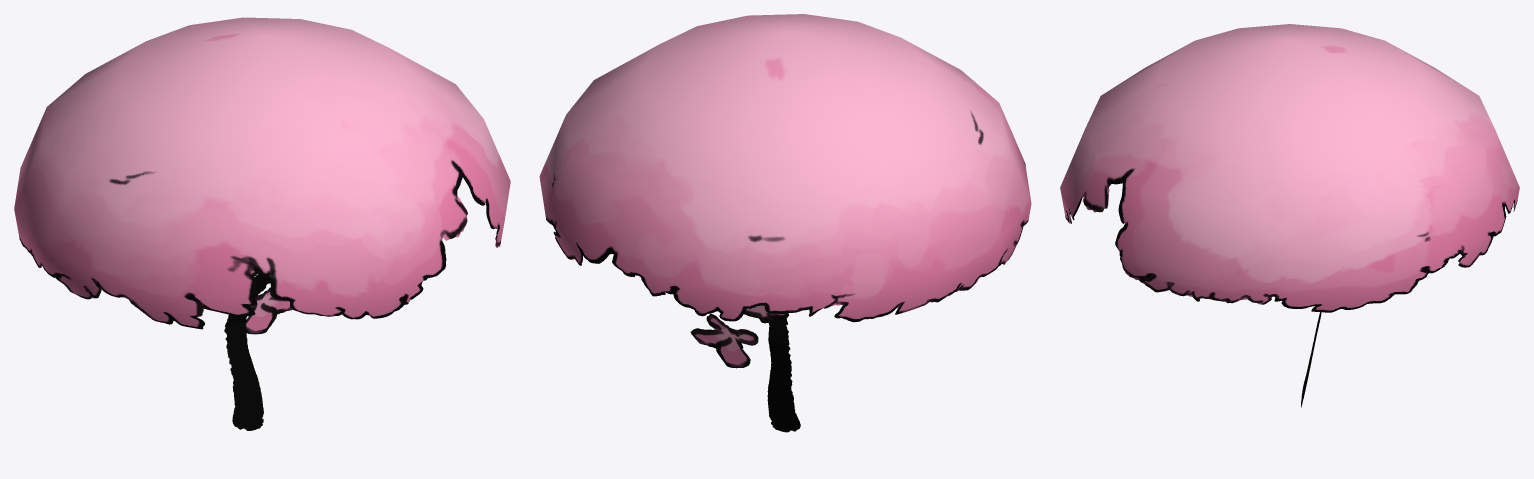
The model's file is Tree_test.fbx.
3 views of the same model, side by side, from view 1: azimuth 30°, elevation 25°; view 2: azimuth 150°, elevation 25°; view 3: azimuth 270°, elevation 25° (orthographic). The views are drawn at different scales.
Parts seen in each view (by area): view 1: Leaves, Trunk, Brush_03; view 2: Leaves, Trunk, Brush_03; view 3: Leaves.
Part boxes in pixels (<box>): Leaves: <box>14,17,510,329</box>; Trunk: <box>224,275,271,430</box>; Brush_03: <box>245,287,292,334</box>; Leaves: <box>539,14,1031,322</box>; Trunk: <box>767,318,800,432</box>; Brush_03: <box>690,314,758,368</box>; Leaves: <box>1060,24,1519,312</box>.
Size of the model in its own units: 3.34 by 2.98 by 3.34.
Materials: 1 (1 with a texture image).
